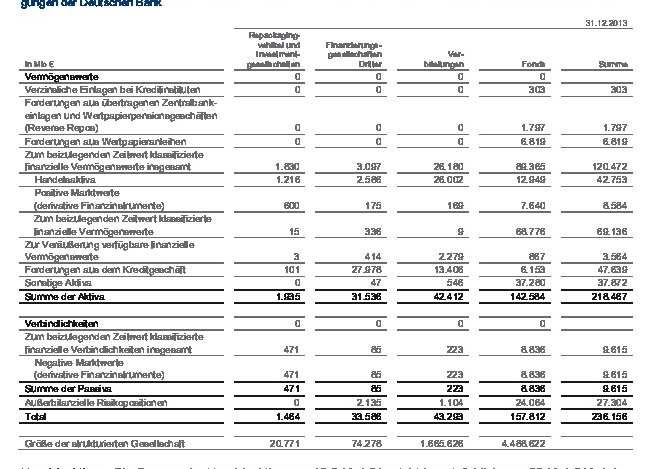table: (0, 0, 656, 469)
